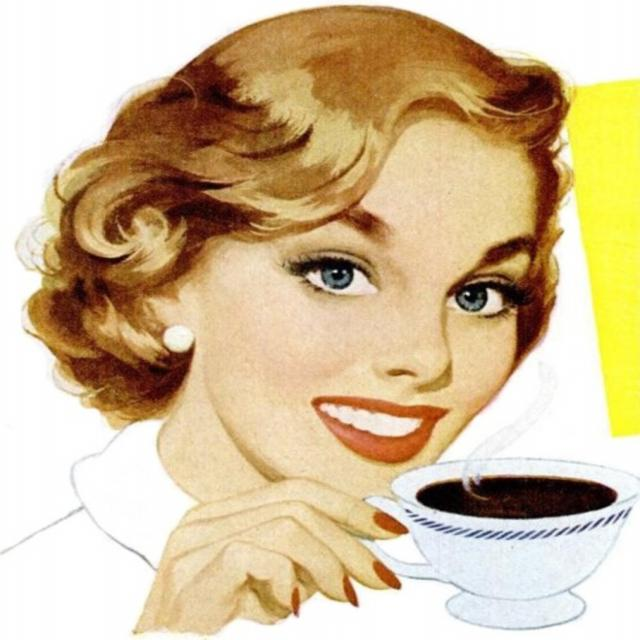Coffee: (416, 476, 622, 523)
Tea: (418, 471, 616, 520)
